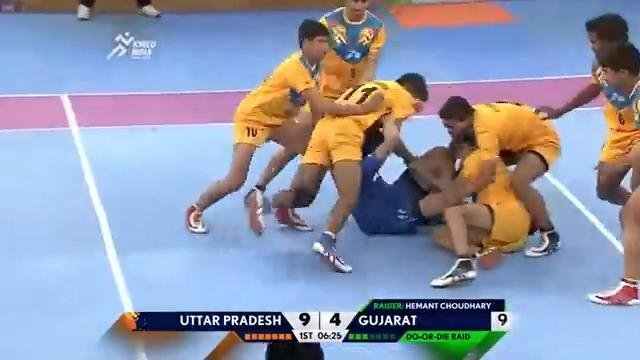Player: (184, 18, 383, 235), (269, 71, 429, 273), (534, 12, 639, 305), (437, 94, 561, 257)
Raider: (351, 128, 468, 237)
referee: (75, 0, 162, 20)
